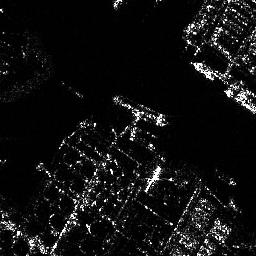ship: (111, 95, 169, 126)
